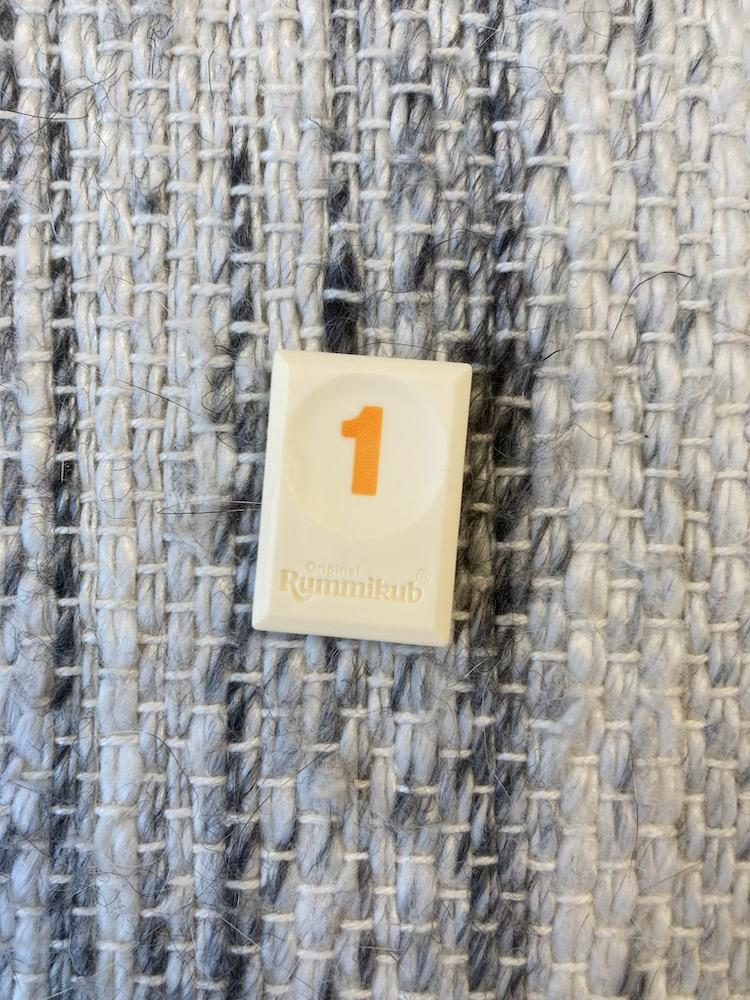orange_1: (252, 350, 471, 646)
